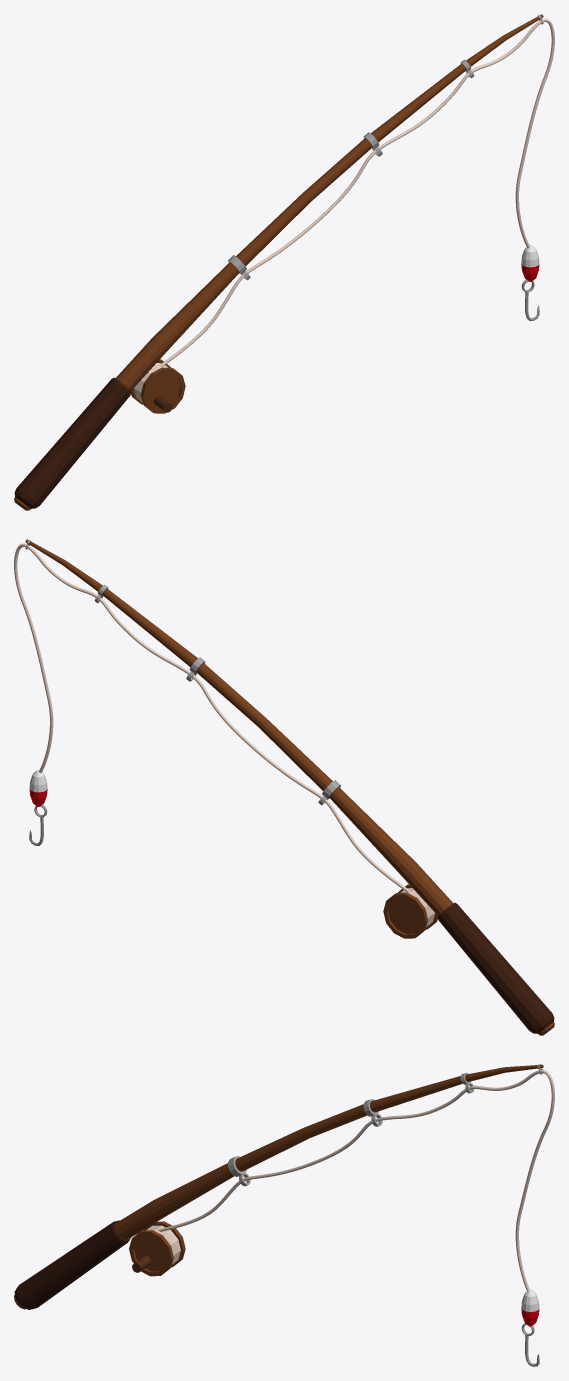
Rendered from FBX_Fishingrod.fbx.
3 renders of one model, top to bottom at view 1: azimuth 30°, elevation 25°; view 2: azimuth 150°, elevation 25°; view 3: azimuth 330°, elevation 25°, orthographic.
Parts seen in each view (by area): view 1: FishignRod, Line, Spool_wood; view 2: FishignRod, Line, Spool_wood; view 3: FishignRod, Line, Spool_wood, Bobber, Spool.
Part boxes in pixels (x1,y1,x2,y2): FishignRod: (14, 14, 543, 510); Line: (158, 18, 554, 367); Spool_wood: (131, 359, 185, 413); FishignRod: (25, 539, 554, 1035); Line: (14, 543, 410, 892); Spool_wood: (383, 884, 437, 938); FishignRod: (14, 1064, 543, 1309); Line: (158, 1069, 554, 1291); Spool_wood: (129, 1221, 185, 1276); Bobber: (521, 1289, 539, 1326); Spool: (146, 1225, 180, 1264).
Bounding box in the file's own units: 2.24 × 1.47 × 0.1668.
